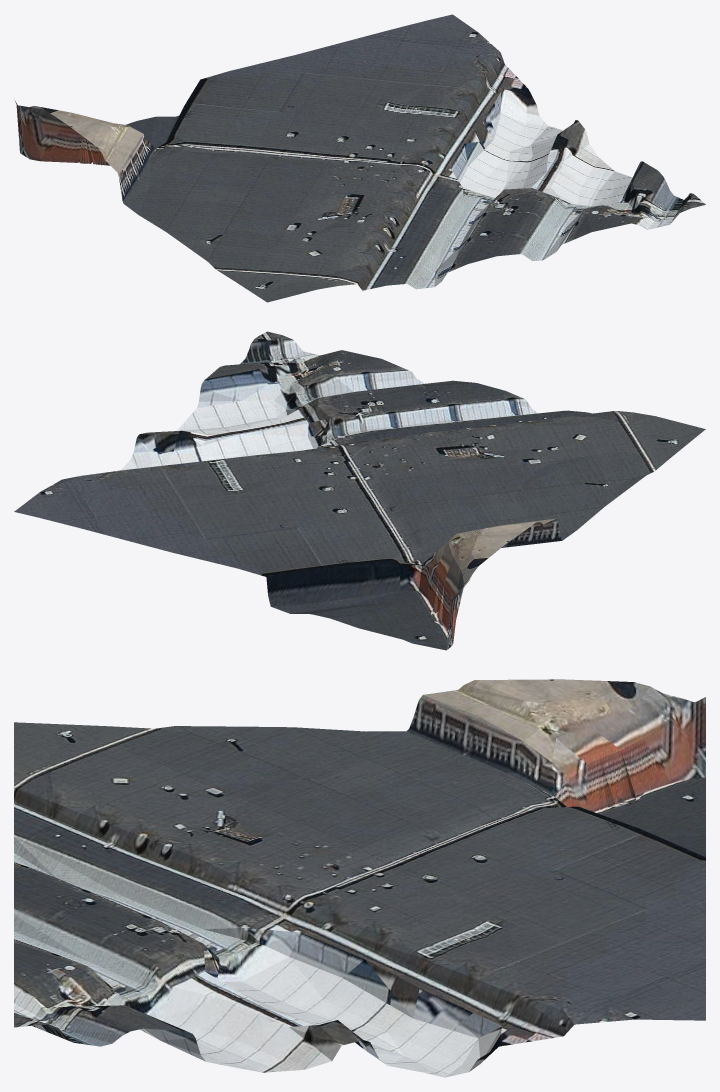
The model's file is map_15_8183_13786.dae.
3 renders of one model, top to bottom at view 1: azimuth 30°, elevation 25°; view 2: azimuth 150°, elevation 25°; view 3: azimuth 270°, elevation 25°, orthographic. The views are drawn at different scales.
Parts seen in each view (by area): view 1: Ter0; view 2: Ter0; view 3: Ter0.
Boxes of the visible parts, x1=… form: Ter0: x1=15, y1=14, x2=705, y2=302; Ter0: x1=14, y1=331, x2=705, y2=650; Ter0: x1=14, y1=679, x2=705, y2=1077.
Bounding box in the file's own units: 63.87 × 63.88 × 10.78.
Materials: 2 (2 with a texture image).
